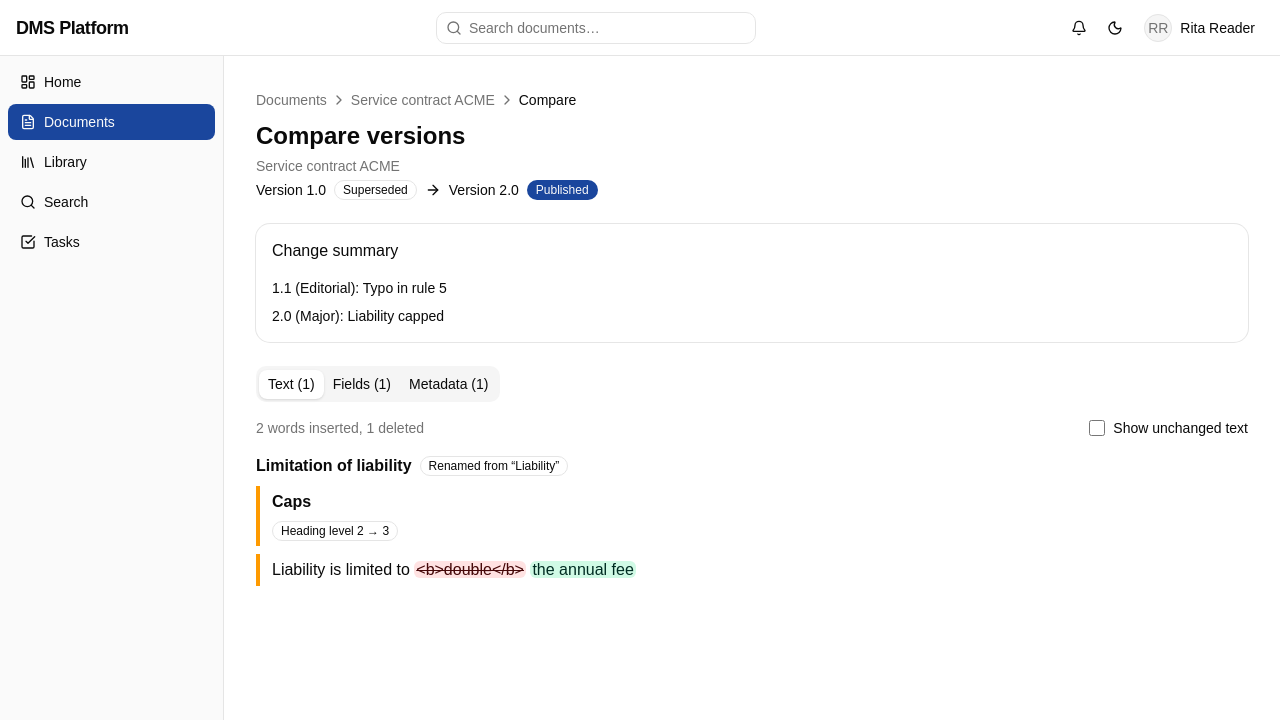
Test: Version comparison › shows the change summaries above the text, field and metadata changes
Expected: the list items read "1.1 (Editorial): Typo in rule 5", "2.0 (Major): Liability capped", in this order, [272, 280, 447, 296]; [272, 308, 444, 324]
Expected: the text "Renamed from “Liability”" is shown, [420, 456, 568, 476]
Click the checkbox labelled "Show unchanged text". click: (1097, 428)
box: [1089, 420, 1105, 436]
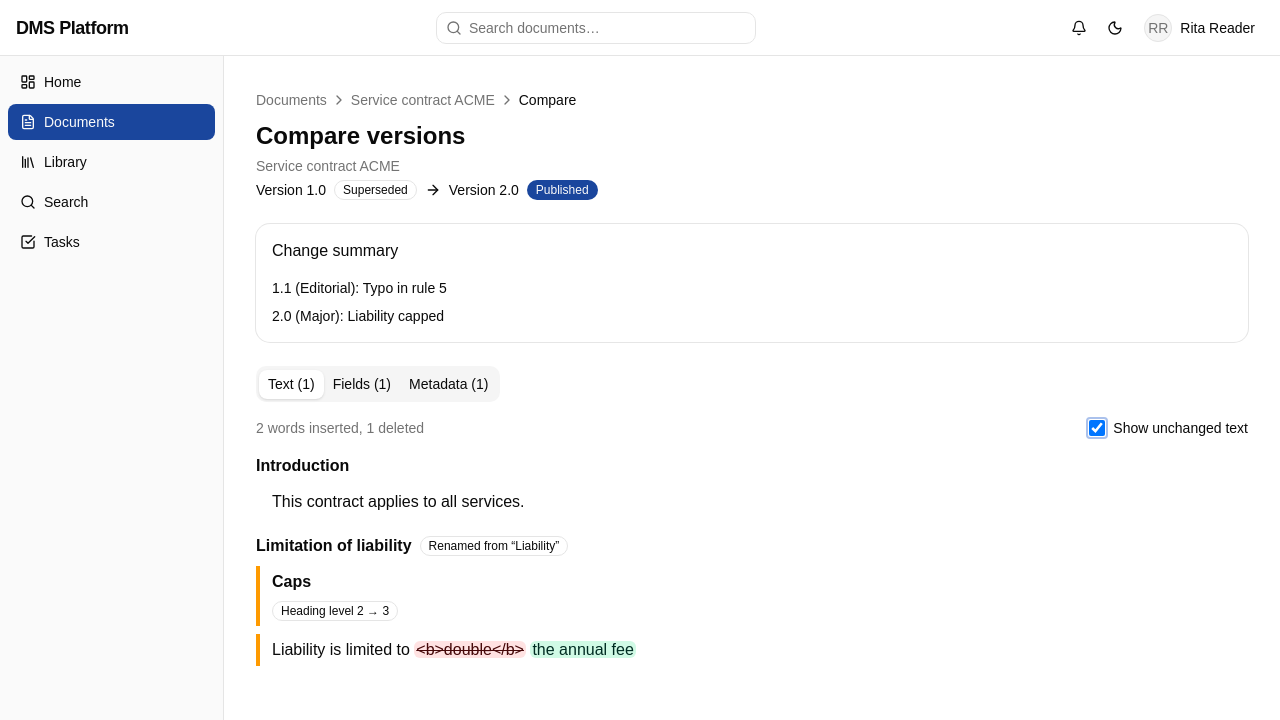
Now the element "Introduction" shows "This contract applies to all services.", box [272, 493, 524, 510]
Click the tab "Fields (1)". click: (362, 384)
box: [324, 370, 400, 398]
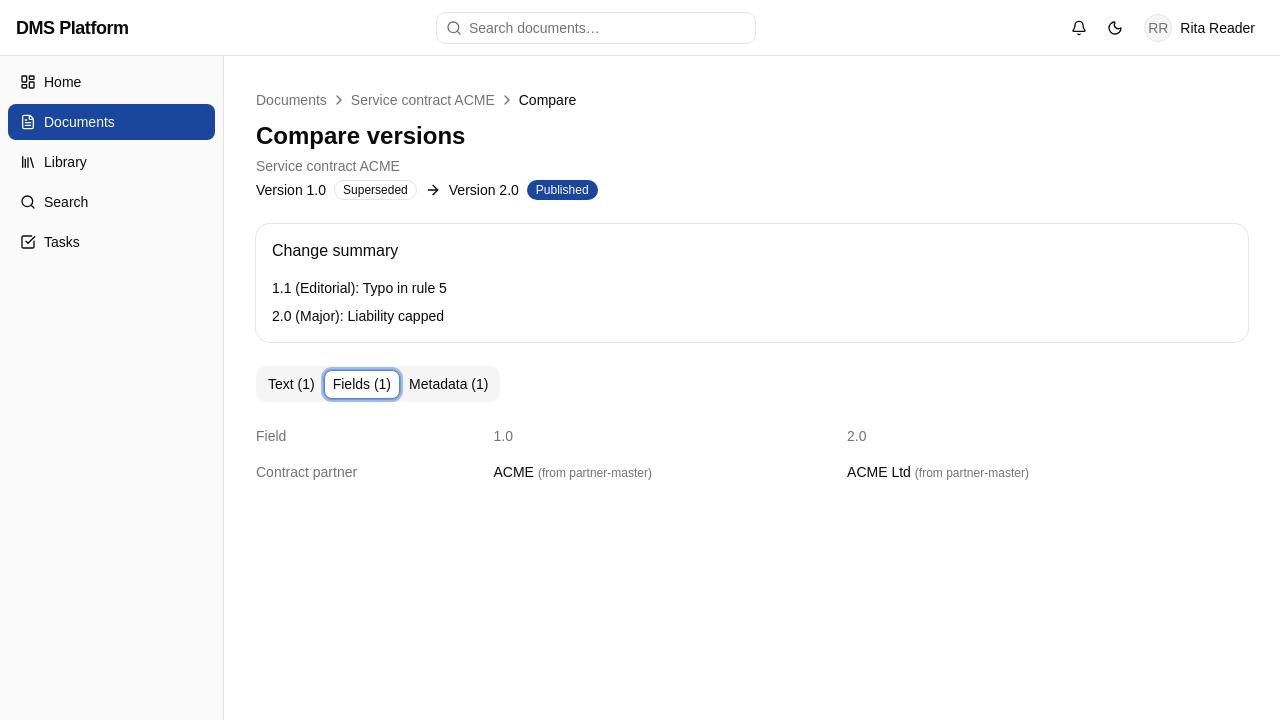
Now the row "Contract partner" reads "Contract partner ACME(from partner-master) ACME Ltd(from partner-master)", box [256, 454, 1248, 490]
Click the tab "Metadata (1)". click: (449, 384)
box: [400, 370, 497, 398]
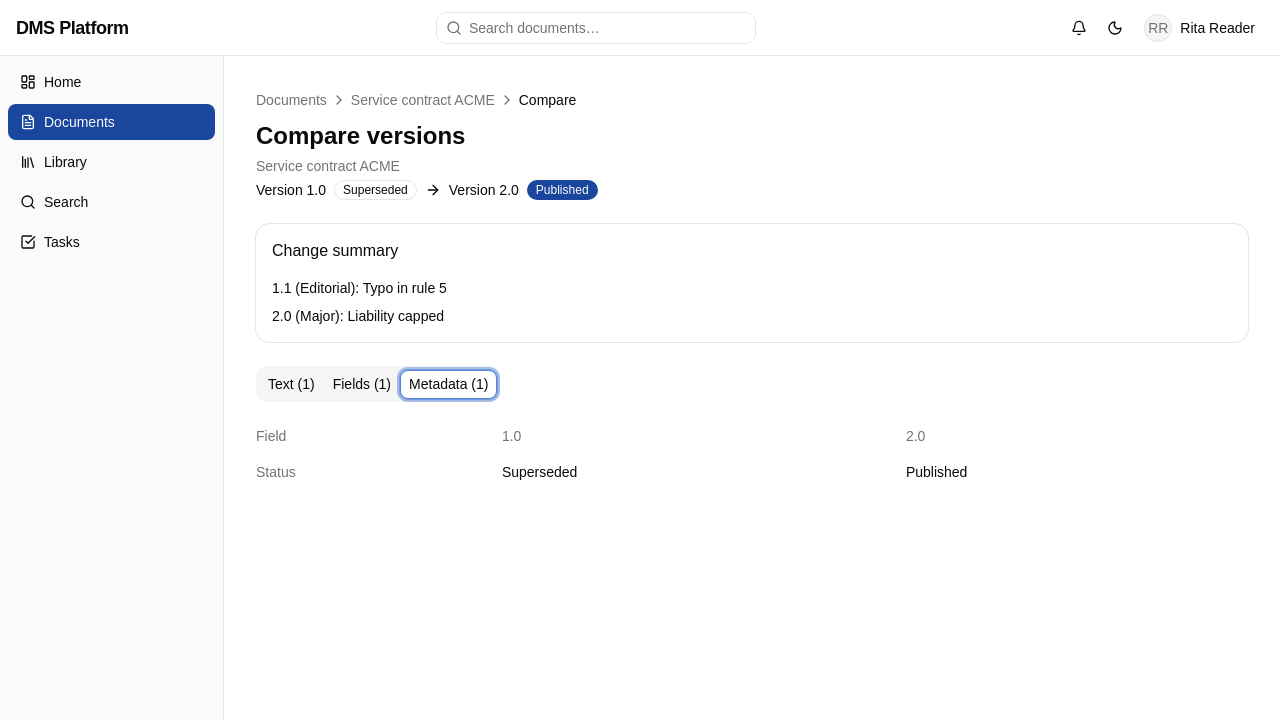
Now the row "Status Superseded Published" is shown, box [256, 454, 1248, 490]
